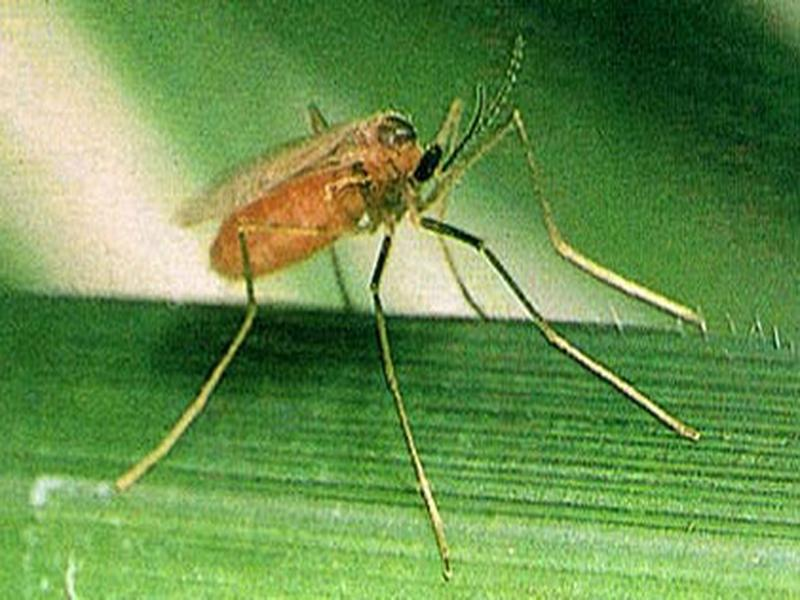Gall_midge: (126, 83, 717, 505)
